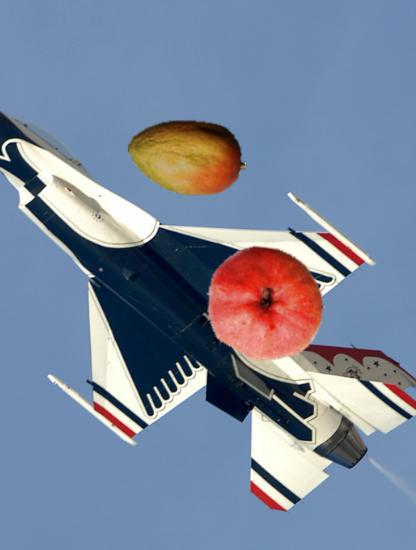Papaya: (128, 99, 246, 217)
Pear: (206, 245, 325, 364)
